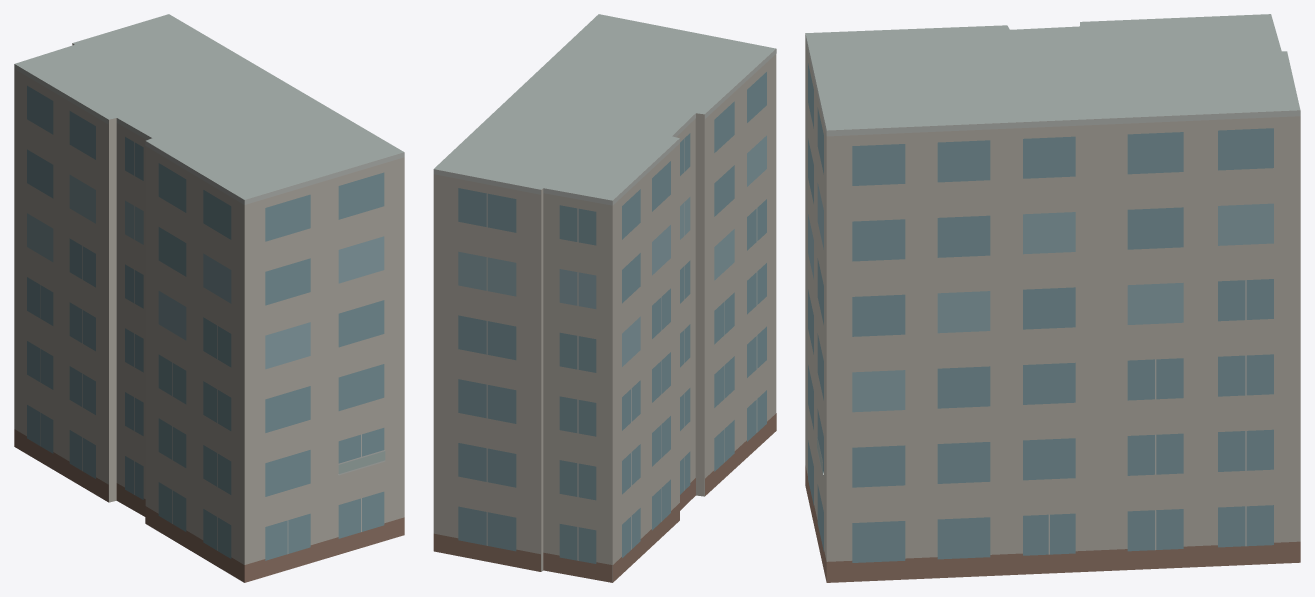
File: survey-upis-32927676.glb
The picture shows the model from 3 angles, left to right: view 1: azimuth 30°, elevation 25°; view 2: azimuth 150°, elevation 25°; view 3: azimuth 270°, elevation 25°; orthographic projection. The views are drawn at different scales.
Visible parts, largest first — view 1: survey-upis-32927676.tmp; view 2: survey-upis-32927676.tmp; view 3: survey-upis-32927676.tmp.
Part boxes in pixels (<box>): survey-upis-32927676.tmp: <box>14,14,404,582</box>; survey-upis-32927676.tmp: <box>433,14,776,582</box>; survey-upis-32927676.tmp: <box>805,14,1300,582</box>.
Bounding box in the file's own units: 10.28 × 18.6 × 18.46.
